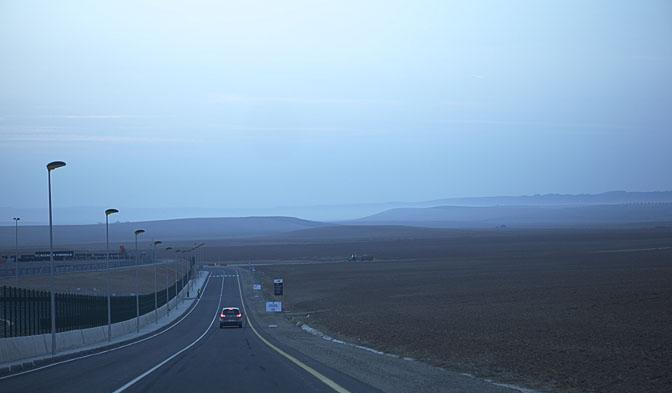car: (218, 306, 243, 328)
